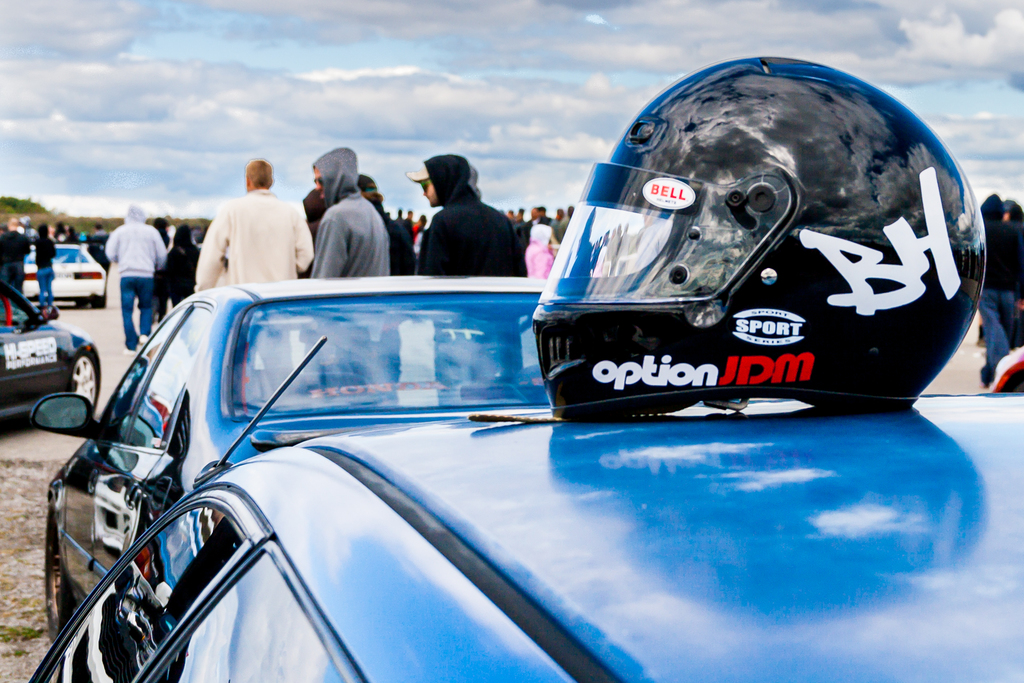Car: (32, 276, 547, 643), (0, 277, 99, 417), (21, 243, 105, 307), (412, 231, 426, 274)
